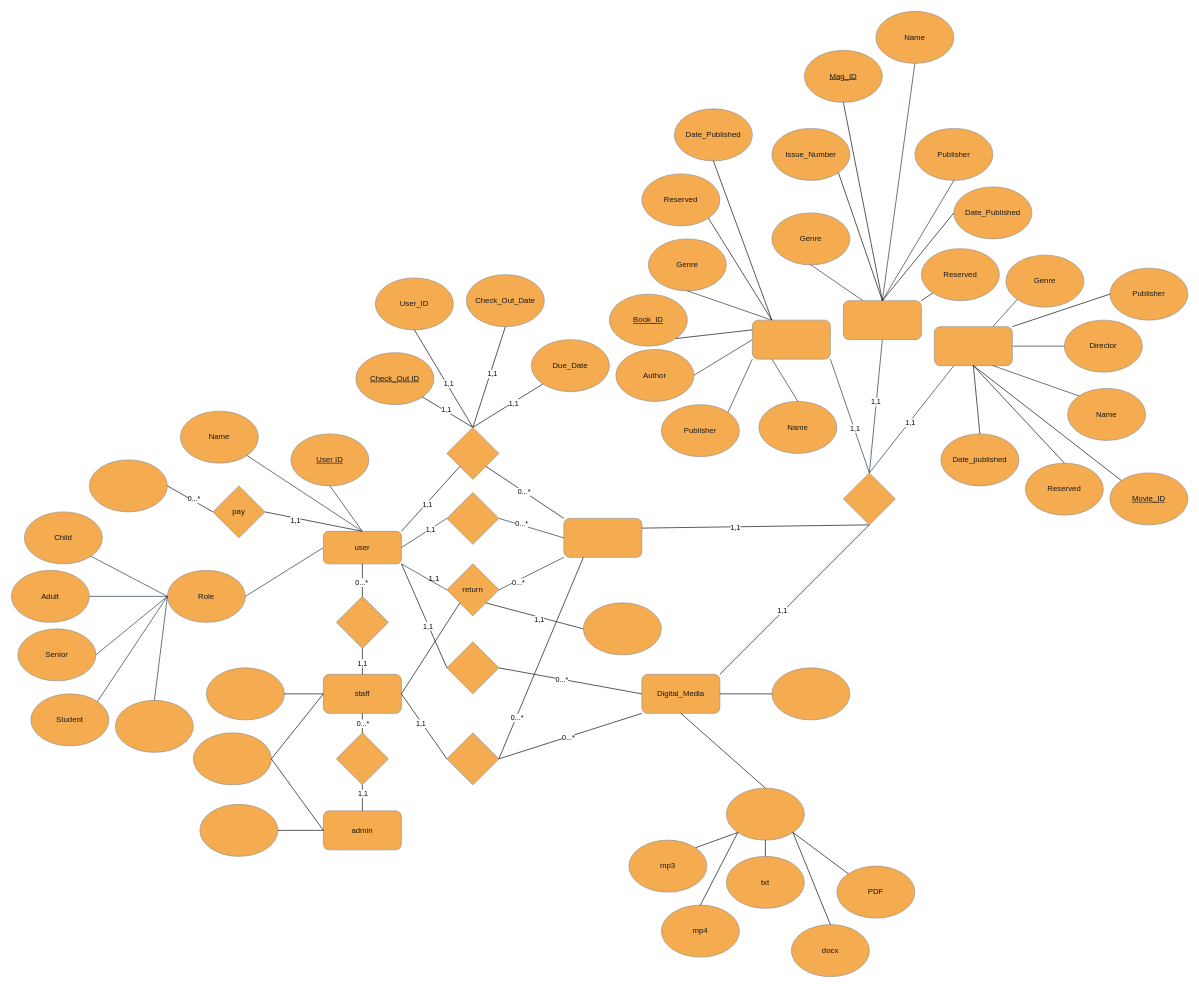
Image size: 1199x988. Some labels were removed from this diagram. The shapes that lost their labels are listed below. From the top down, each one's centre as x and y in pixels, then its label:
At point 791,339: "book".
At point 882,320: "magazine".
At point 973,346: "movie".
At point 472,453: "check_out".
At point 128,485: "Fees".
At point 869,498: "is".
At point 472,518: "reserve".
At point 602,537: "media".
At point 362,622: "mange".
At point 622,628: "Return_Date".
At point 472,667: "download".
At point 245,693: "Staff_Privilege".
At point 810,693: "Digital_Media_ID".
At point 154,726: "Professor".
At point 232,758: "Staff_ID".
At point 362,758: "manage".
At point 472,758: "add_to".
At point 238,830: "Admin_Privilege".
At point 765,813: "File_Type".
